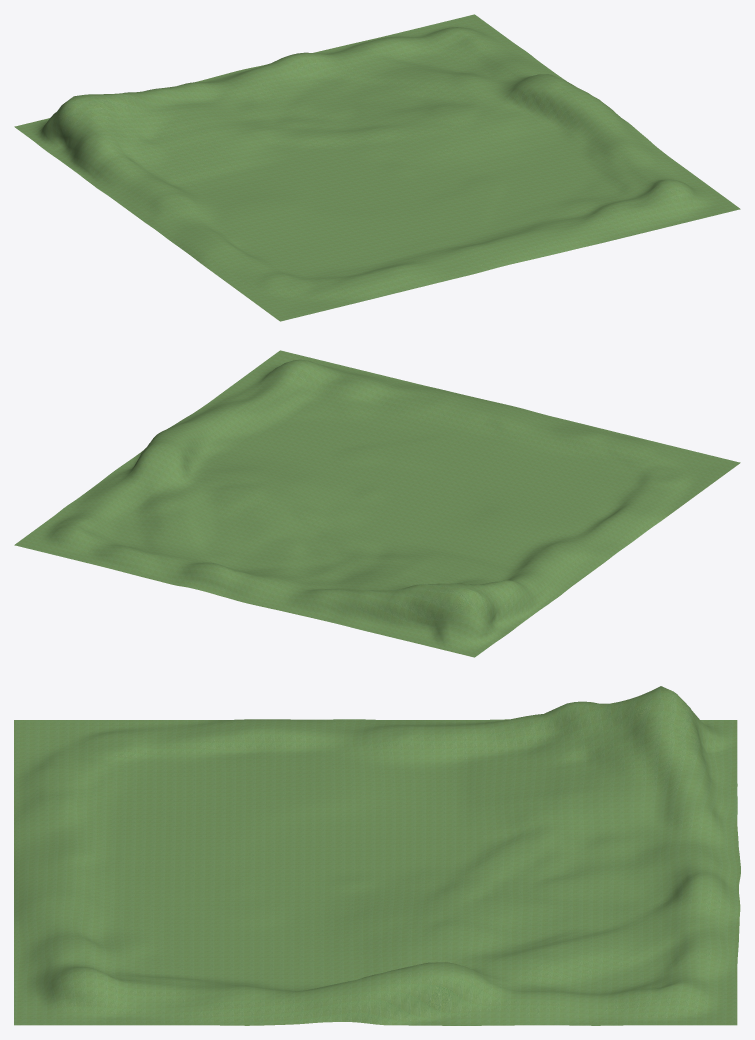
The model's file is Environment.dae.
The picture shows the model from 3 angles, top to bottom: view 1: azimuth 30°, elevation 25°; view 2: azimuth 150°, elevation 25°; view 3: azimuth 270°, elevation 25°; orthographic projection. The views are drawn at different scales.
Parts seen in each view (by area): view 1: Tree.005; view 2: Tree.005; view 3: Tree.005.
Part boxes in pixels (x1,y1,x2,y2): Tree.005: (14,14,740,321); Tree.005: (14,350,740,657); Tree.005: (14,686,740,1025).
Size of the model in its own units: 1.59 by 1.59 by 0.1313.
Materials: 1 (1 with a texture image).
